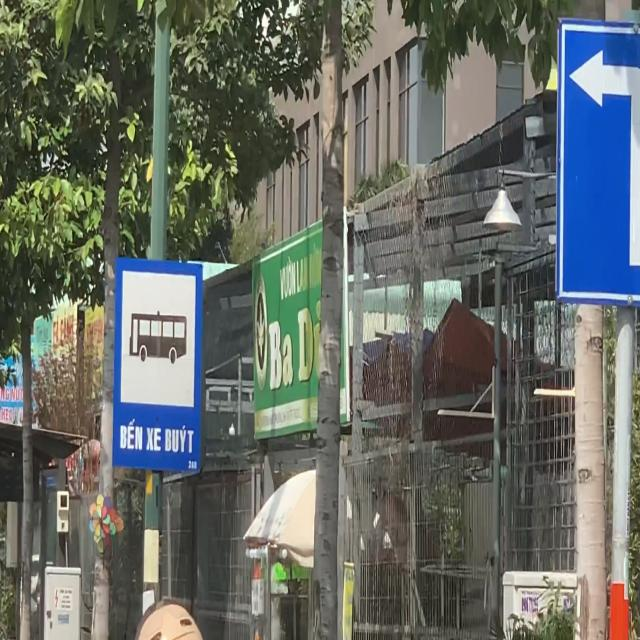Ben xe buyt: (110, 256, 205, 474)
